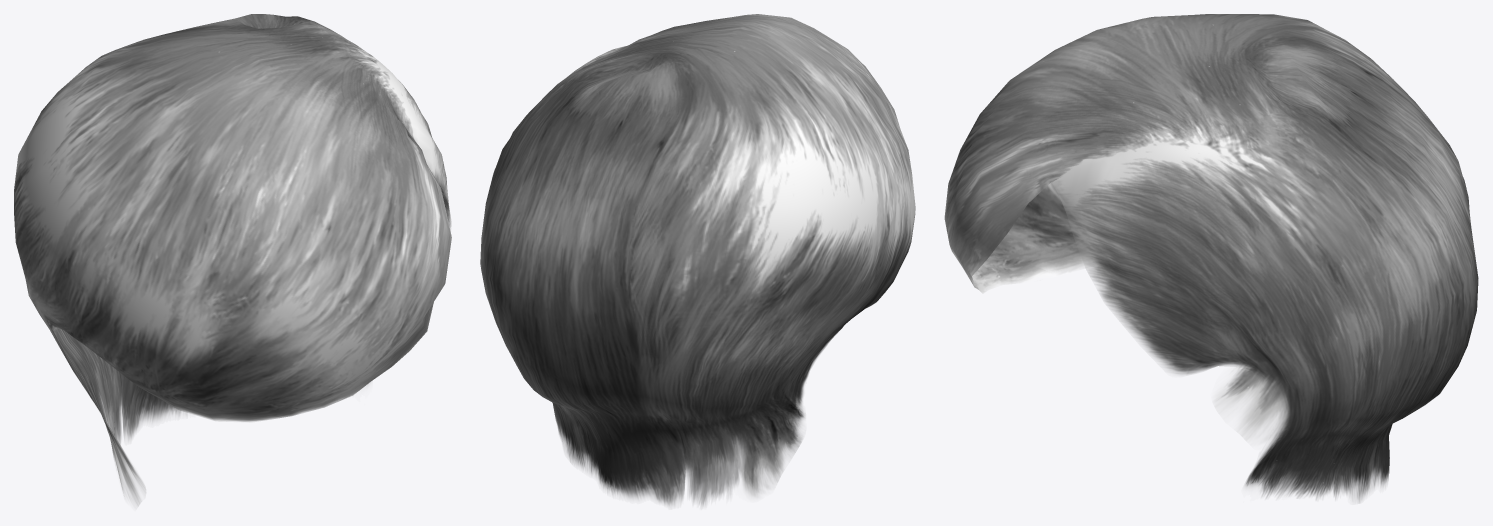
The model's file is hair_short03.gltf.
3 renders of one model, left to right at view 1: azimuth 30°, elevation 25°; view 2: azimuth 150°, elevation 25°; view 3: azimuth 270°, elevation 25°, orthographic. The views are drawn at different scales.
Visible parts, largest first — view 1: hair_short03; view 2: hair_short03; view 3: hair_short03.
Part boxes in pixels (x1=…): hair_short03: x1=14, y1=14, x2=451, y2=506; hair_short03: x1=480, y1=14, x2=915, y2=506; hair_short03: x1=944, y1=14, x2=1478, y2=502.
Size of the model in its own units: 0.171 by 0.2007 by 0.2103.
1 material, 1 textured.
